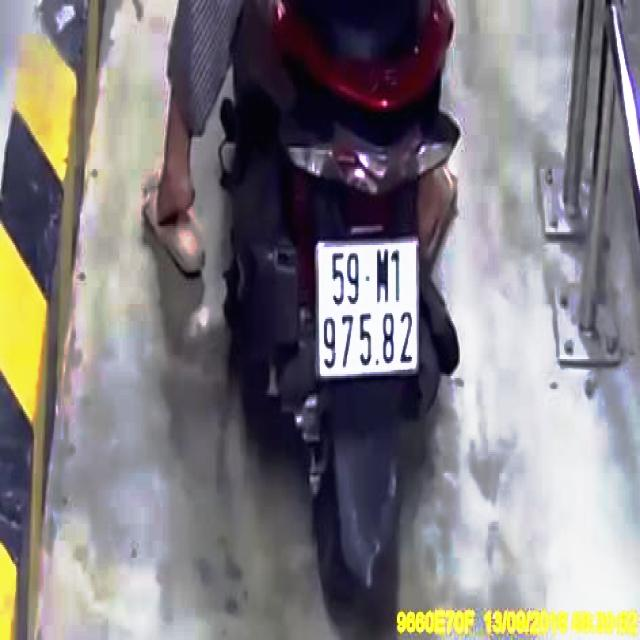license_plate: (319, 242, 420, 381)
